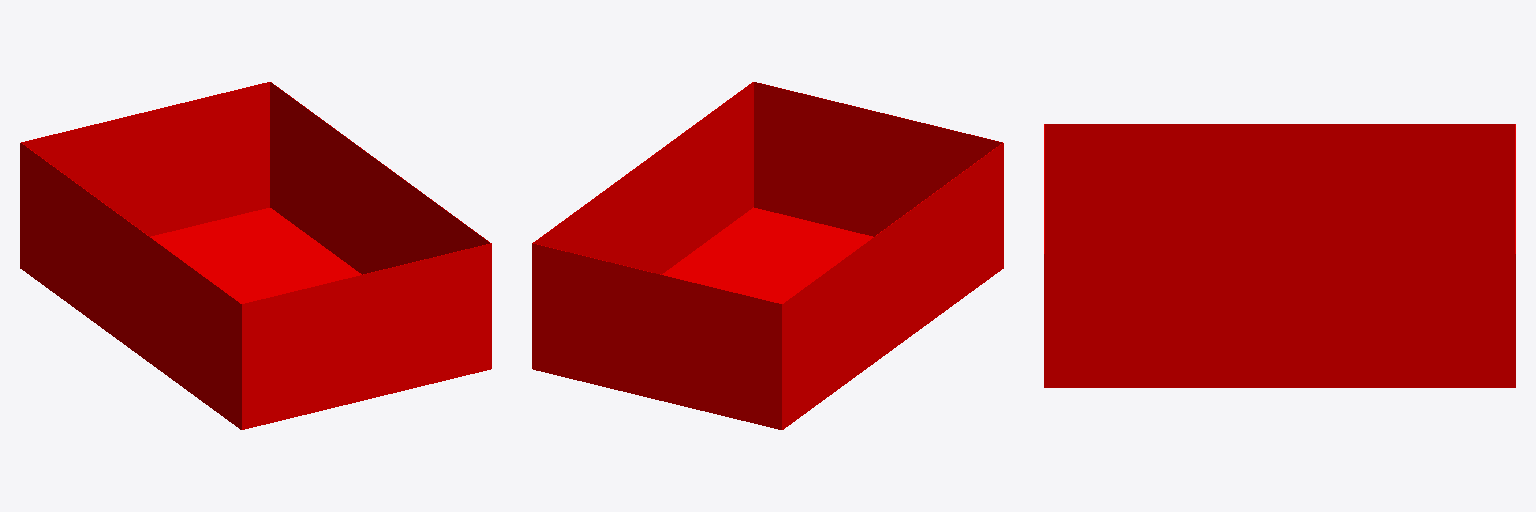
The robot description file, URDF, robot "square.urdf":
<?xml version="1.0" ?>
<robot name="square.urdf">
  <link name="baseLink">
    <contact>
      <lateral_friction value="1.0"/>
      <inertia_scaling value="3.0"/>
    </contact>
    <inertial>
      <origin rpy="0 0 0" xyz="0 0 0"/>
       <mass value=".1"/>
       <inertia ixx="1" ixy="0" ixz="0" iyy="1" iyz="0" izz="1"/>
    </inertial>
    <visual>
      <origin rpy="0 0 0" xyz="0 0 0"/>
      <geometry>
        <mesh filename="12.stl" scale="1 1 1" />
      </geometry>
      <material name="red">
        <color rgba="1 0 0 1"/>
      </material>
    </visual>
    <collision>
      <origin rpy="0 0 0" xyz="0 0 0"/>
      <geometry>
        <mesh filename="12_convex.obj" scale="1 1 1" />
      </geometry>
    </collision>
  </link>
</robot>

--- What the picture shows (computed from the rendered views, not written in the file) ---
Views: 3 orthographic renders of the robot side by side, from view 1: azimuth 30°, elevation 25°; view 2: azimuth 150°, elevation 25°; view 3: azimuth 270°, elevation 25°.
Model square.urdf with 1 links and 0 joints (none), rooted at baseLink, posed every joint at zero.
Visible links, largest first — view 1: baseLink; view 2: baseLink; view 3: baseLink.
Boxes of the visible links, box(x1,y1,x2,y2) form: baseLink: box(20, 82, 491, 429); baseLink: box(532, 82, 1003, 429); baseLink: box(1044, 124, 1515, 387).
Size in the robot's own frame: 0.6352 by 0.9729 by 0.3059 metres.
1 mesh visuals loaded from 1 distinct referenced files (1 binary STL).